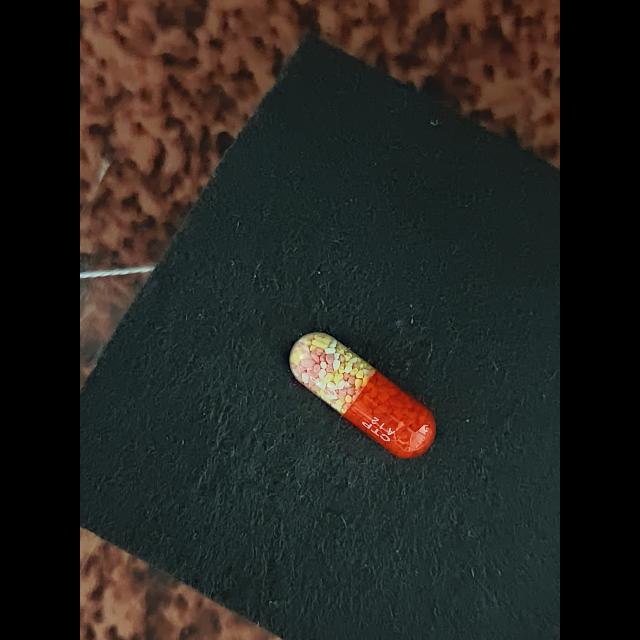Intact Capsule: (290, 332, 436, 459)
